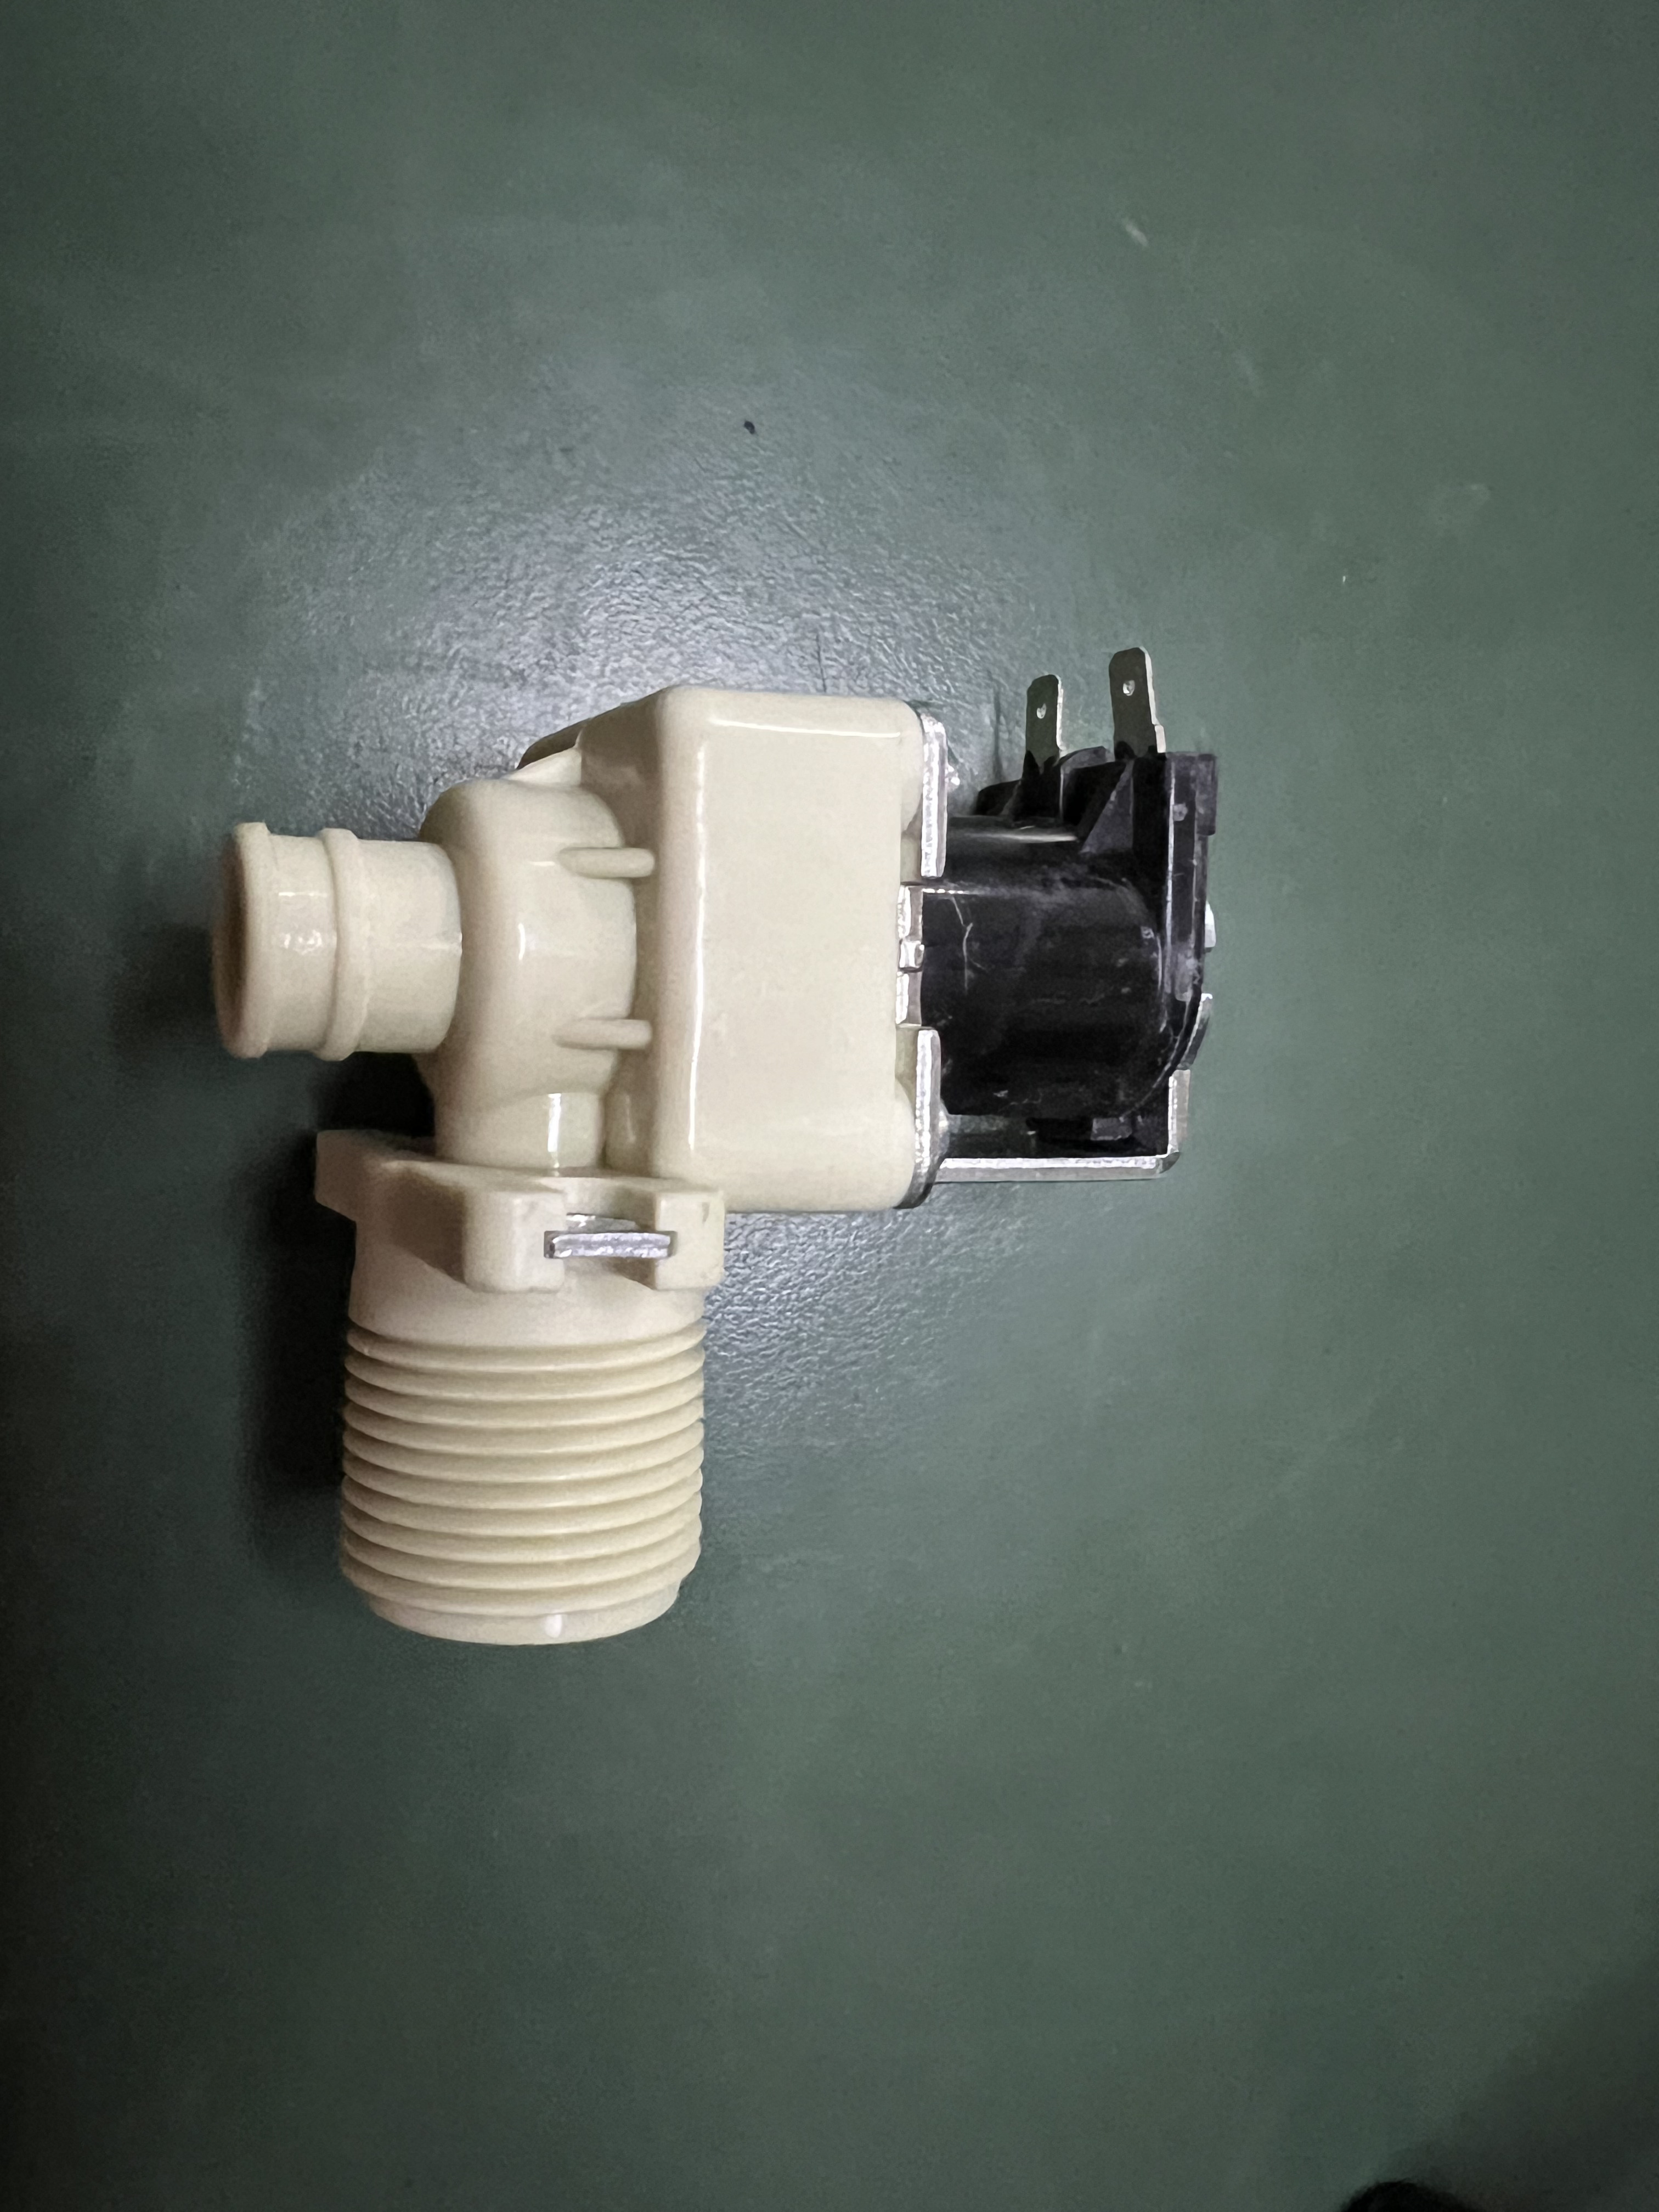godrej_inlet_valves: (171, 596, 1274, 1681)
